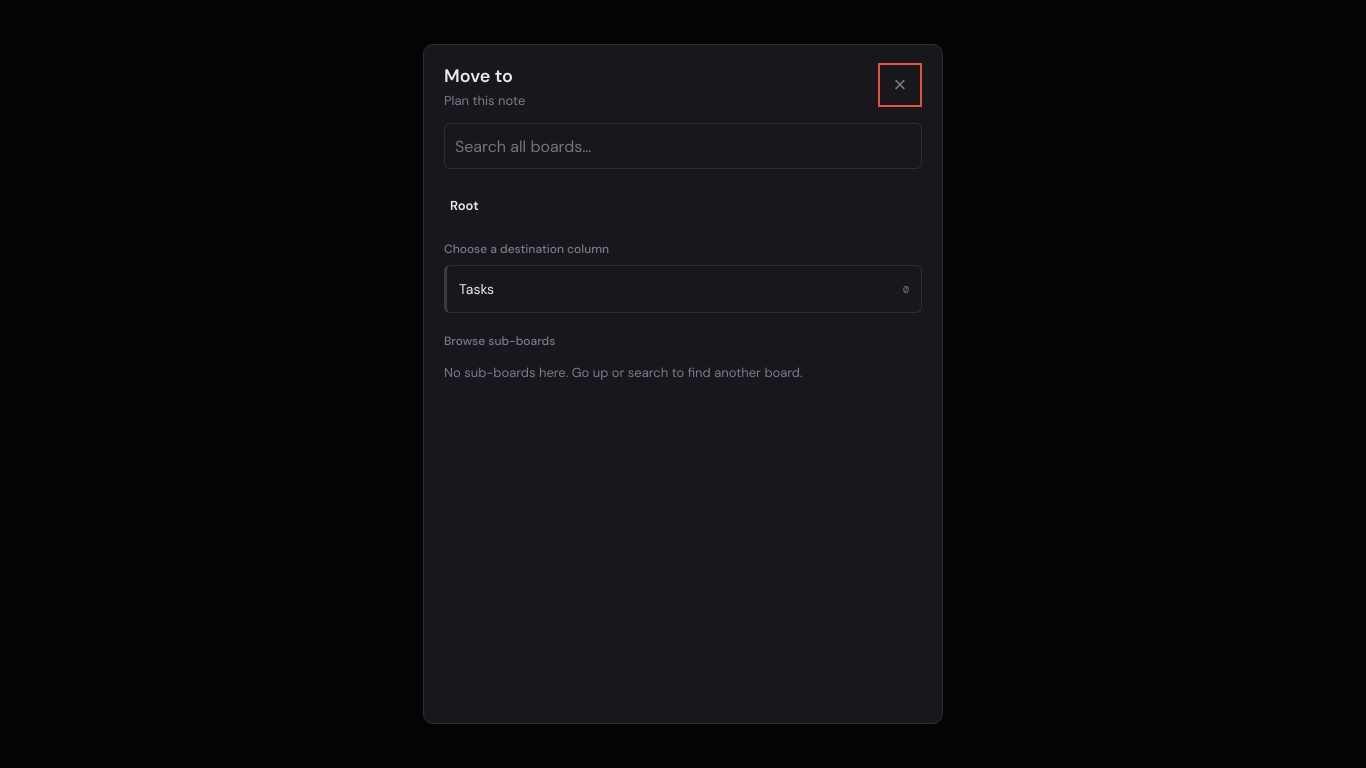
Test: keeps the picker open with feedback when the destination has disappeared
This screenshot has width=1366, height=768.
Click the button with class "move-col-btn" at x=477, y=289, box [444, 265, 922, 313]
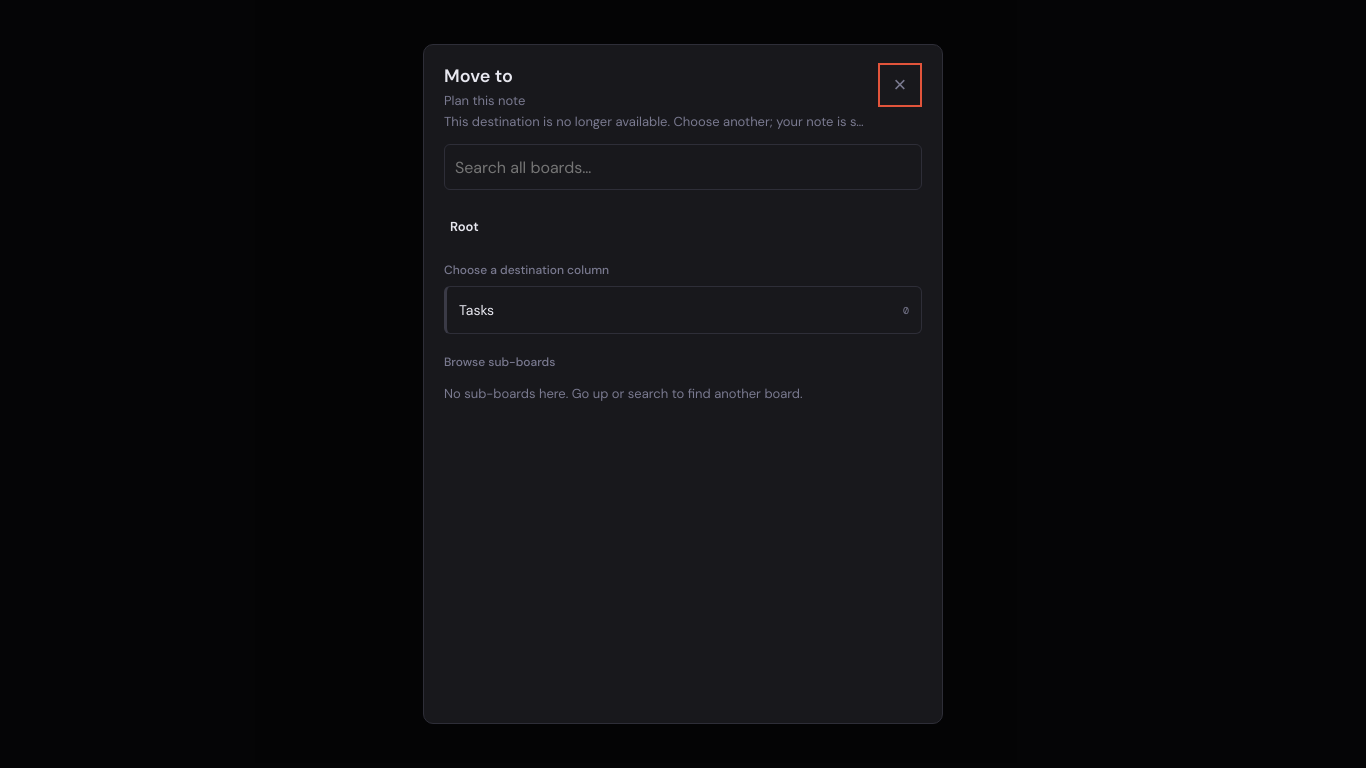
Expected: the message shows "no longer available", [444, 113, 923, 130]
